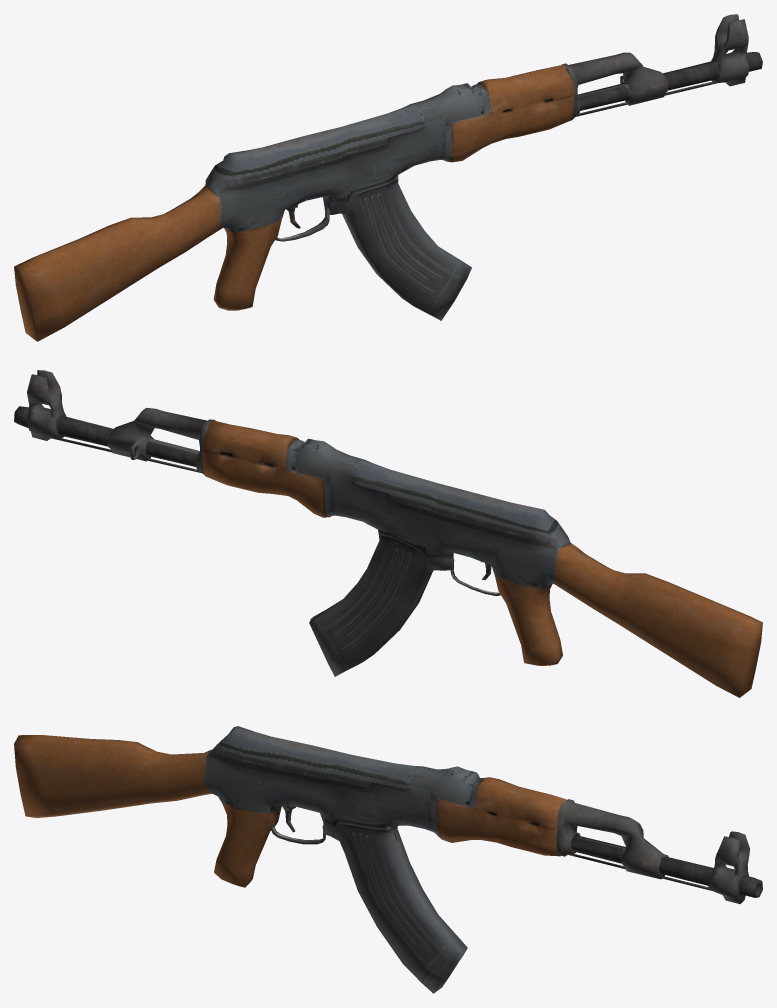
3 views of the same model, one above another, from view 1: azimuth 30°, elevation 25°; view 2: azimuth 150°, elevation 25°; view 3: azimuth 330°, elevation 25° (orthographic).
Parts seen in each view (by area): view 1: ak47; view 2: ak47; view 3: ak47.
Part boxes in pixels (<box>): ak47: <box>14,14,762,341</box>; ak47: <box>14,370,762,697</box>; ak47: <box>14,726,762,993</box>.
Bounding box in the file's own units: 85.9 × 25.35 × 4.15.
1 material, 1 textured.
